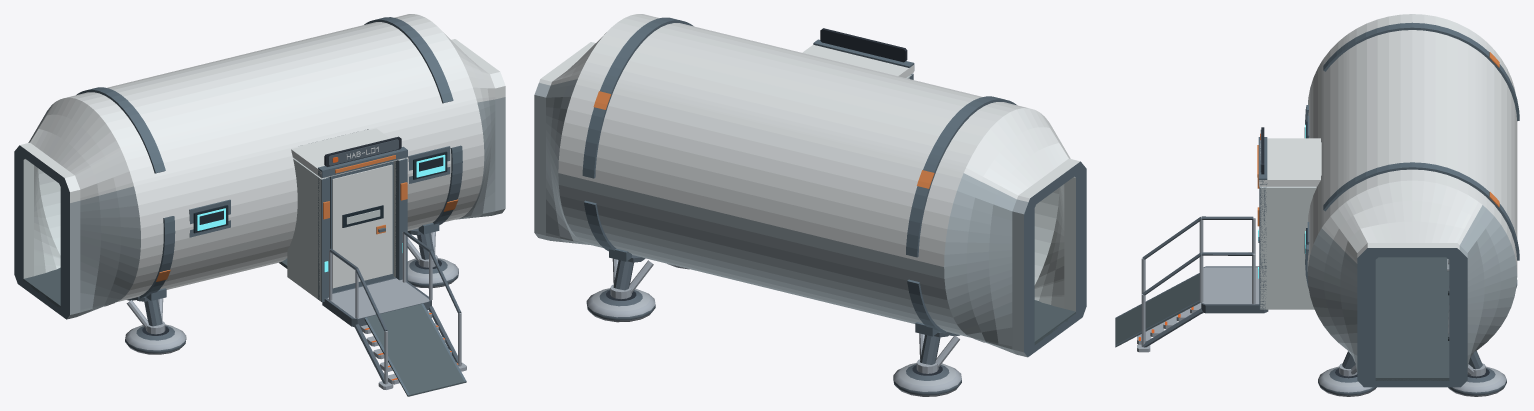
File: hab_l01_transitable.glb
3 views of the same model, side by side, from view 1: azimuth 30°, elevation 25°; view 2: azimuth 150°, elevation 25°; view 3: azimuth 270°, elevation 25° (orthographic). The views are drawn at different scales.
Visible parts, largest first — view 1: HAB_TR_CASCO_CUPULA, HAB_TR_CASCO_FRONTAL, HAB_TR_TRANSICIONES_FRONTAL, HAB_TR_TRANSICIONES_CUPULA, HAB_TR_HOJA_ESCOTILLA, HAB_TR_JAMBAS_DEL_ACCESO, HAB_TR_ESCALERA_ORIGINAL, HAB_TR_HUELLA_CONTINUA, HAB_TR_BANDAS_EXTERIORES, HAB_TR_TRANSICIONES_INFERIOR, HAB_TR_DINTEL_ACCESO, HAB_TR_VENTANAS_Y_MARCA (+6 smaller); view 2: HAB_TR_CASCO_DORSO, HAB_TR_CASCO_CUPULA, HAB_TR_CASCO_INFERIOR, HAB_TR_TRANSICIONES_INFERIOR, HAB_TR_TRANSICIONES_CUPULA, HAB_TR_TRANSICIONES_DORSO, HAB_TR_BANDAS_EXTERIORES, HAB_TR_TRANSICIONES_FRONTAL, HAB_TR_ZAPATA_03, HAB_TR_ZAPATA_01, HAB_TR_DINTEL_ACCESO, HAB_TR_CASCO_FRONTAL (+2 smaller); view 3: HAB_TR_CASCO_CUPULA, HAB_TR_TRANSICIONES_CUPULA, HAB_TR_SUELO_CONTINUO, HAB_TR_TRANSICIONES_FRONTAL, HAB_TR_JAMBAS_DEL_ACCESO, HAB_TR_ESCALERA_ORIGINAL, HAB_TR_CASCO_DORSO, HAB_TR_TRANSICIONES_INFERIOR, HAB_TR_TRANSICIONES_DORSO, HAB_TR_BANDAS_EXTERIORES, HAB_TR_DINTEL_ACCESO, HAB_TR_HUELLA_CONTINUA (+3 smaller).
Boxes of the visible parts, bbox=[...] form: HAB_TR_CASCO_CUPULA: bbox=[66, 14, 477, 186]; HAB_TR_CASCO_FRONTAL: bbox=[116, 102, 484, 302]; HAB_TR_TRANSICIONES_FRONTAL: bbox=[58, 97, 505, 319]; HAB_TR_TRANSICIONES_CUPULA: bbox=[18, 32, 505, 205]; HAB_TR_HOJA_ESCOTILLA: bbox=[329, 161, 393, 292]; HAB_TR_JAMBAS_DEL_ACCESO: bbox=[287, 158, 407, 302]; HAB_TR_ESCALERA_ORIGINAL: bbox=[322, 230, 466, 389]; HAB_TR_HUELLA_CONTINUA: bbox=[364, 303, 466, 396]; HAB_TR_BANDAS_EXTERIORES: bbox=[76, 17, 462, 300]; HAB_TR_TRANSICIONES_INFERIOR: bbox=[14, 168, 60, 314]; HAB_TR_DINTEL_ACCESO: bbox=[291, 128, 407, 178]; HAB_TR_VENTANAS_Y_MARCA: bbox=[189, 146, 450, 237]; HAB_TR_CASCO_DORSO: bbox=[558, 79, 963, 266]; HAB_TR_CASCO_CUPULA: bbox=[578, 14, 1028, 172]; HAB_TR_CASCO_INFERIOR: bbox=[558, 173, 971, 337]; HAB_TR_TRANSICIONES_INFERIOR: bbox=[534, 140, 1075, 357]; HAB_TR_TRANSICIONES_CUPULA: bbox=[539, 32, 1086, 209]; HAB_TR_TRANSICIONES_DORSO: bbox=[534, 79, 1034, 266]; HAB_TR_BANDAS_EXTERIORES: bbox=[582, 17, 1016, 335]; HAB_TR_TRANSICIONES_FRONTAL: bbox=[1034, 181, 1086, 321]; HAB_TR_ZAPATA_03: bbox=[586, 255, 655, 322]; HAB_TR_ZAPATA_01: bbox=[893, 331, 961, 396]; HAB_TR_DINTEL_ACCESO: bbox=[802, 39, 914, 77]; HAB_TR_CASCO_FRONTAL: bbox=[1034, 187, 1059, 284]; HAB_TR_CASCO_CUPULA: bbox=[1321, 14, 1482, 227]; HAB_TR_TRANSICIONES_CUPULA: bbox=[1322, 180, 1482, 278]; HAB_TR_SUELO_CONTINUO: bbox=[1375, 257, 1449, 380]; HAB_TR_TRANSICIONES_FRONTAL: bbox=[1307, 228, 1378, 387]; HAB_TR_JAMBAS_DEL_ACCESO: bbox=[1257, 177, 1316, 309]; HAB_TR_ESCALERA_ORIGINAL: bbox=[1137, 216, 1268, 352]; HAB_TR_CASCO_DORSO: bbox=[1482, 39, 1517, 272]; HAB_TR_TRANSICIONES_INFERIOR: bbox=[1377, 276, 1517, 387]; HAB_TR_TRANSICIONES_DORSO: bbox=[1449, 205, 1517, 297]; HAB_TR_BANDAS_EXTERIORES: bbox=[1305, 22, 1519, 287]; HAB_TR_DINTEL_ACCESO: bbox=[1257, 137, 1321, 186]; HAB_TR_HUELLA_CONTINUA: bbox=[1115, 273, 1200, 347].
Size of the model in its own units: 8.15 by 4.04 by 6.59.
